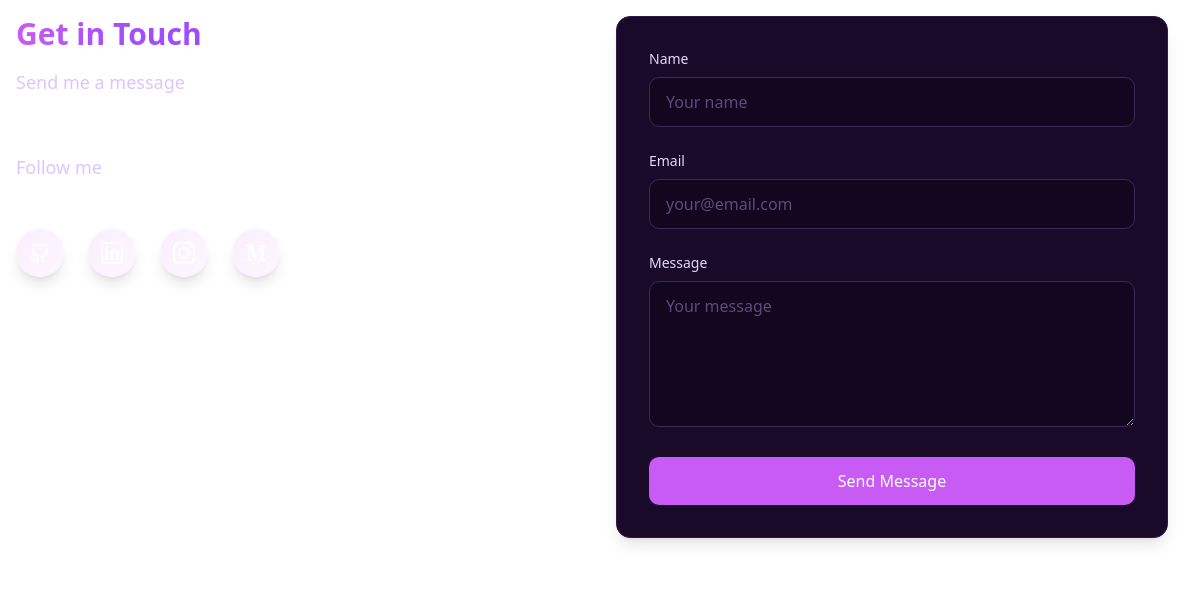
ContactForm › form validation › shows error when message is too short
Type "John Doe" into the field labelled "Name". click: (892, 102)
box: [649,77,1135,127]
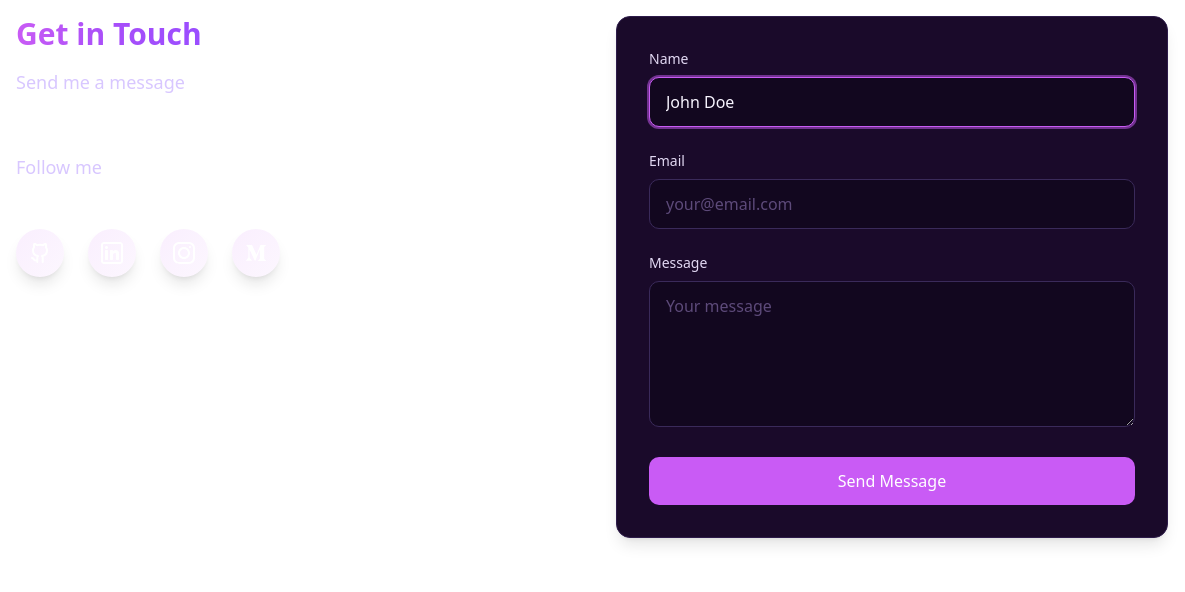
Type "john@example.com" into the field labelled "Email". click: (892, 204)
box: [649,179,1135,229]
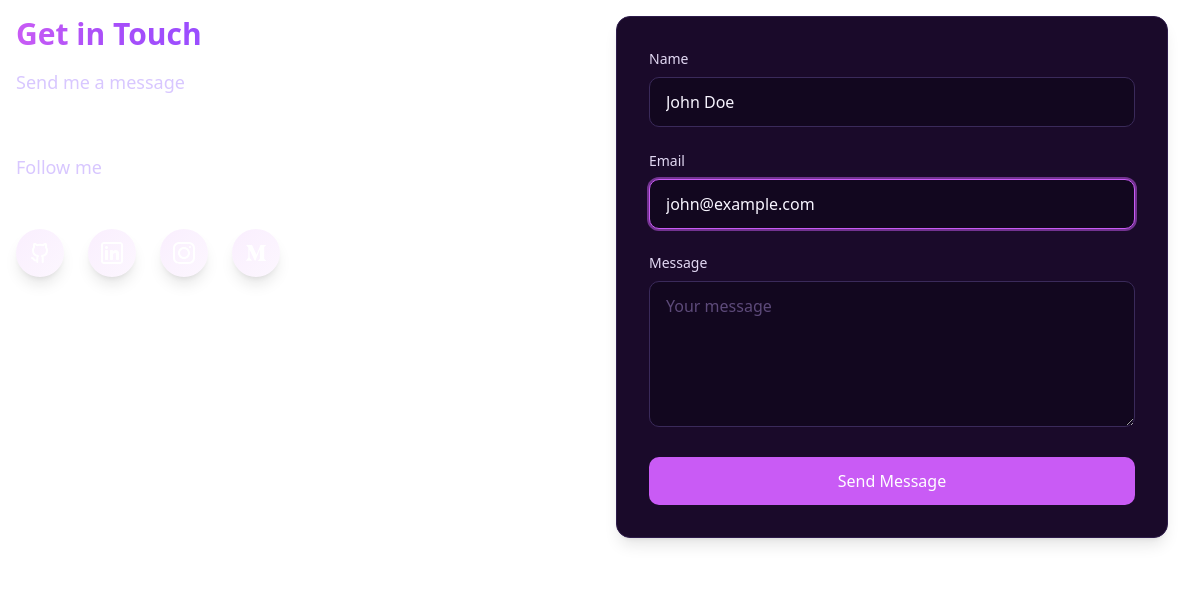
Type "Short" into the text box labelled "Message". click: (892, 354)
box: [649,281,1135,427]
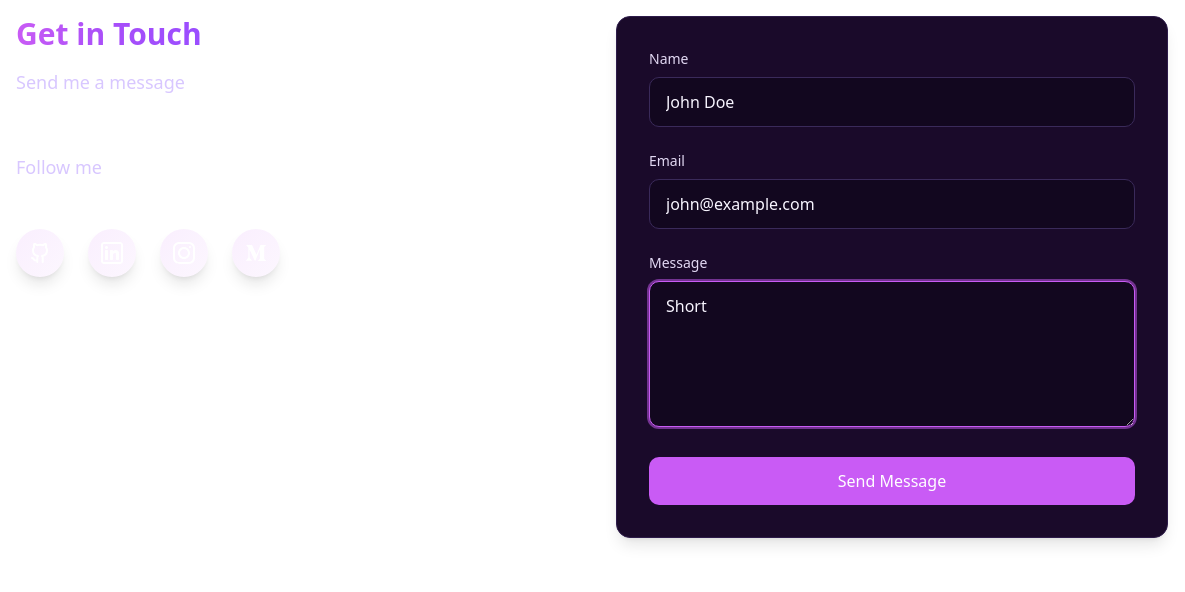
Click the button "Send Message". click: (892, 481)
box: [649,457,1135,505]
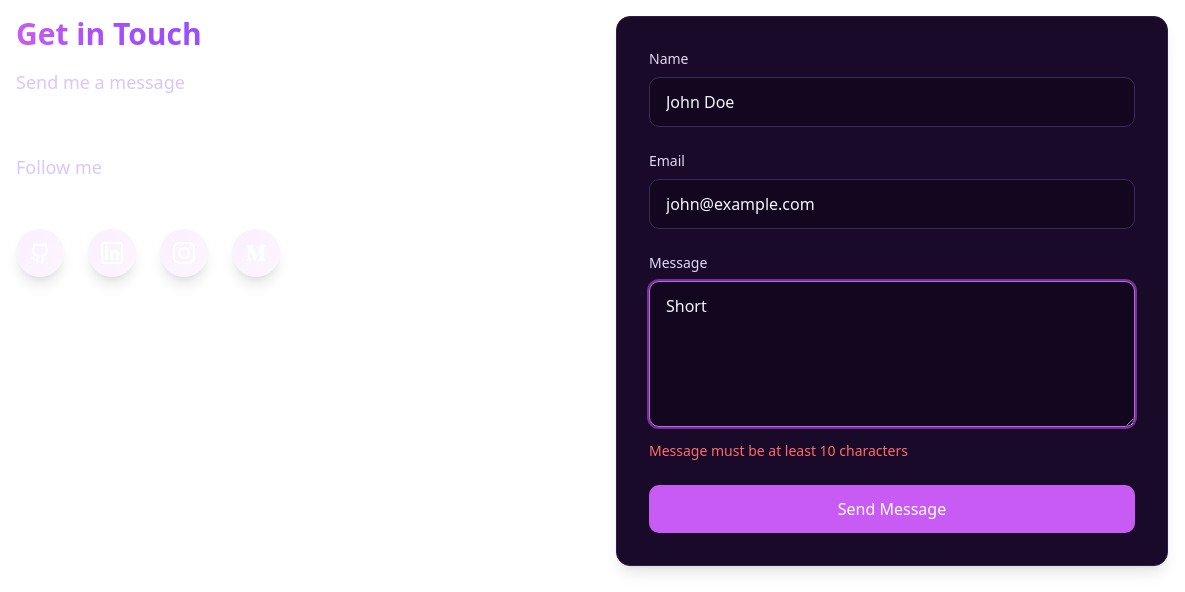
Result: the text "Message must be at least 10 characters" is shown at [649,441,908,460]
